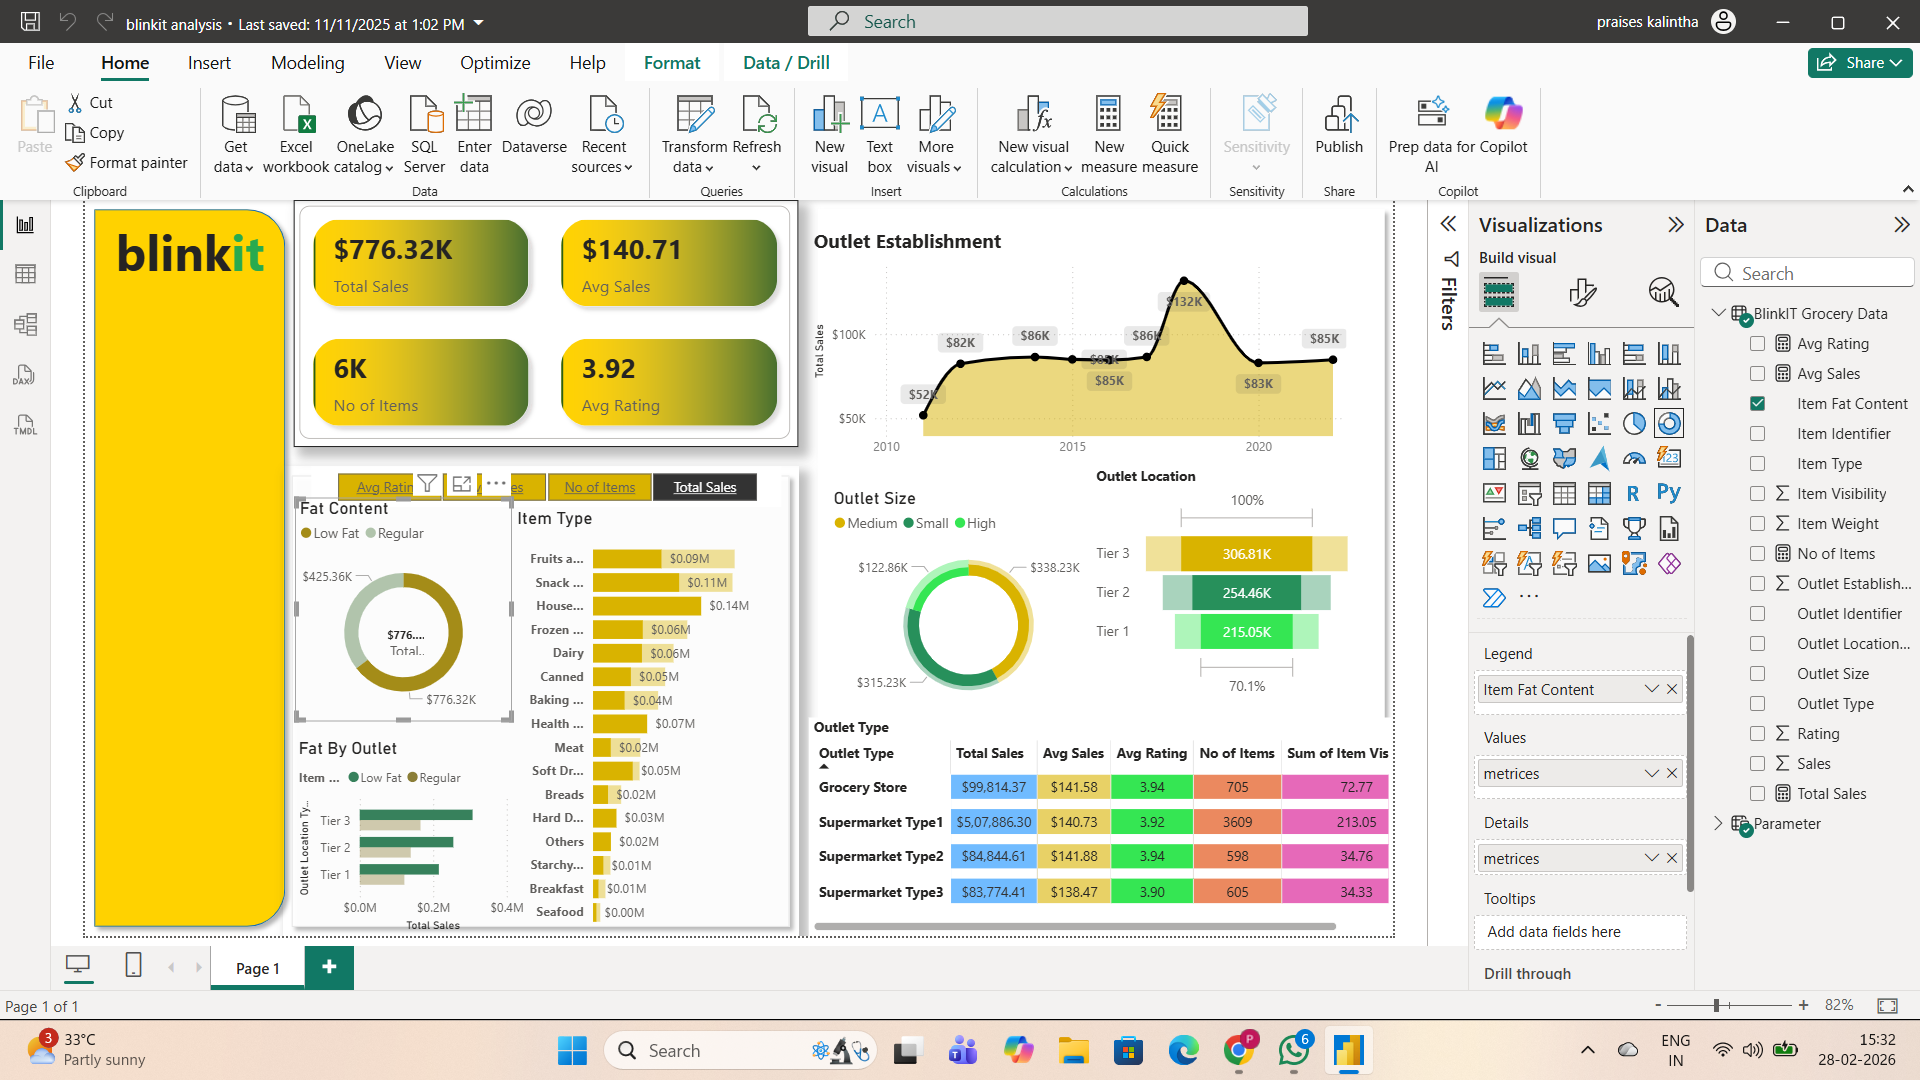

What the dashboard file says about the page in this screenshot:
{"tool":"powerbi","page":{"name":"Page 1","canvas":[1280,720],"ordinal":0},"visuals":[{"type":"shape","box":[0,0,205,720],"z":0},{"type":"textbox","box":[12.3,12.3,181.1,78.2],"z":1000},{"type":"cardVisual","fields":{"Data":["BlinkIT Grocery Data.Total Sales","BlinkIT Grocery Data.Avg Sales","BlinkIT Grocery Data.No of Items","BlinkIT Grocery Data.Avg Rating"]},"box":[204.5,0,494,241.5],"z":2000},{"type":"shape","box":[193.5,260.7,505,459.7],"z":3000},{"type":"donutChart","title":"Fat Content","fields":{"Y":["BlinkIT Grocery Data.Total Sales"],"Category":["BlinkIT Grocery Data.Item Fat Content"]},"box":[205.8,290.9,212.7,219.6],"z":4000},{"type":"slicer","fields":{"Values":["Parameter.Parameter"]},"box":[220.9,260.7,459.7,39.8],"z":5000},{"type":"cardVisual","fields":{"Data":["BlinkIT Grocery Data.Total Sales"]},"box":[275.8,400.7,72.7,49.4],"z":6000},{"type":"clusteredBarChart","title":"Fat By Outlet","fields":{"Y":["BlinkIT Grocery Data.Total Sales"],"Category":["BlinkIT Grocery Data.Outlet Location Type"],"Series":["BlinkIT Grocery Data.Item Fat Content"]},"box":[204.5,525.6,230.5,194.9],"z":7000},{"type":"barChart","title":"Item Type","fields":{"Y":["BlinkIT Grocery Data.Total Sales"],"Category":["BlinkIT Grocery Data.Item Type"]},"box":[418.5,300.5,263.5,419.9],"z":8000},{"type":"shape","box":[708.1,0,572.2,720.4],"z":9000},{"type":"lineChart","title":"Outlet Establishment ","fields":{"Category":["BlinkIT Grocery Data.Outlet Establishment Year"],"Y":["BlinkIT Grocery Data.Total Sales"]},"box":[708.1,27.4,531,233.3],"z":10000},{"type":"donutChart","title":"Outlet Size","fields":{"Y":["BlinkIT Grocery Data.Total Sales"],"Category":["BlinkIT Grocery Data.Outlet Size"]},"box":[727.3,281.3,274,225],"z":11000},{"type":"funnel","title":"Outlet Location","fields":{"Y":["Sum(BlinkIT Grocery Data.Sales)"],"Category":["BlinkIT Grocery Data.Outlet Location Type"]},"box":[983.9,260.7,261,230],"z":12000},{"type":"pivotTable","title":"Outlet Type","fields":{"Rows":["BlinkIT Grocery Data.Outlet Type"],"Values":["BlinkIT Grocery Data.Total Sales","BlinkIT Grocery Data.Avg Sales","BlinkIT Grocery Data.Avg Rating","BlinkIT Grocery Data.No of Items","Sum(BlinkIT Grocery Data.Item Visibility)"]},"box":[708.1,506.3,572.2,214.1],"z":13000}]}

Visuals, with their boxes on the page's 1280x720 design canvas (x1, y1, x2, y2). These are canvas units, not pixel positions in the 1920x1080 screenshot, which may show the page scaled, cropped or inside an application window:
shape: box=[0, 0, 205, 720]
textbox: box=[12, 12, 193, 90]
cardVisual - BlinkIT Grocery Data.Total Sales x BlinkIT Grocery Data.Avg Sales: box=[204, 0, 698, 242]
shape: box=[194, 261, 698, 720]
"Fat Content" donutChart: box=[206, 291, 418, 510]
slicer - Parameter.Parameter: box=[221, 261, 681, 300]
cardVisual - BlinkIT Grocery Data.Total Sales: box=[276, 401, 348, 450]
"Fat By Outlet" clusteredBarChart: box=[204, 526, 435, 720]
"Item Type" barChart: box=[418, 300, 682, 720]
shape: box=[708, 0, 1280, 720]
"Outlet Establishment " lineChart: box=[708, 27, 1239, 261]
"Outlet Size" donutChart: box=[727, 281, 1001, 506]
"Outlet Location" funnel: box=[984, 261, 1245, 491]
"Outlet Type" pivotTable: box=[708, 506, 1280, 720]
